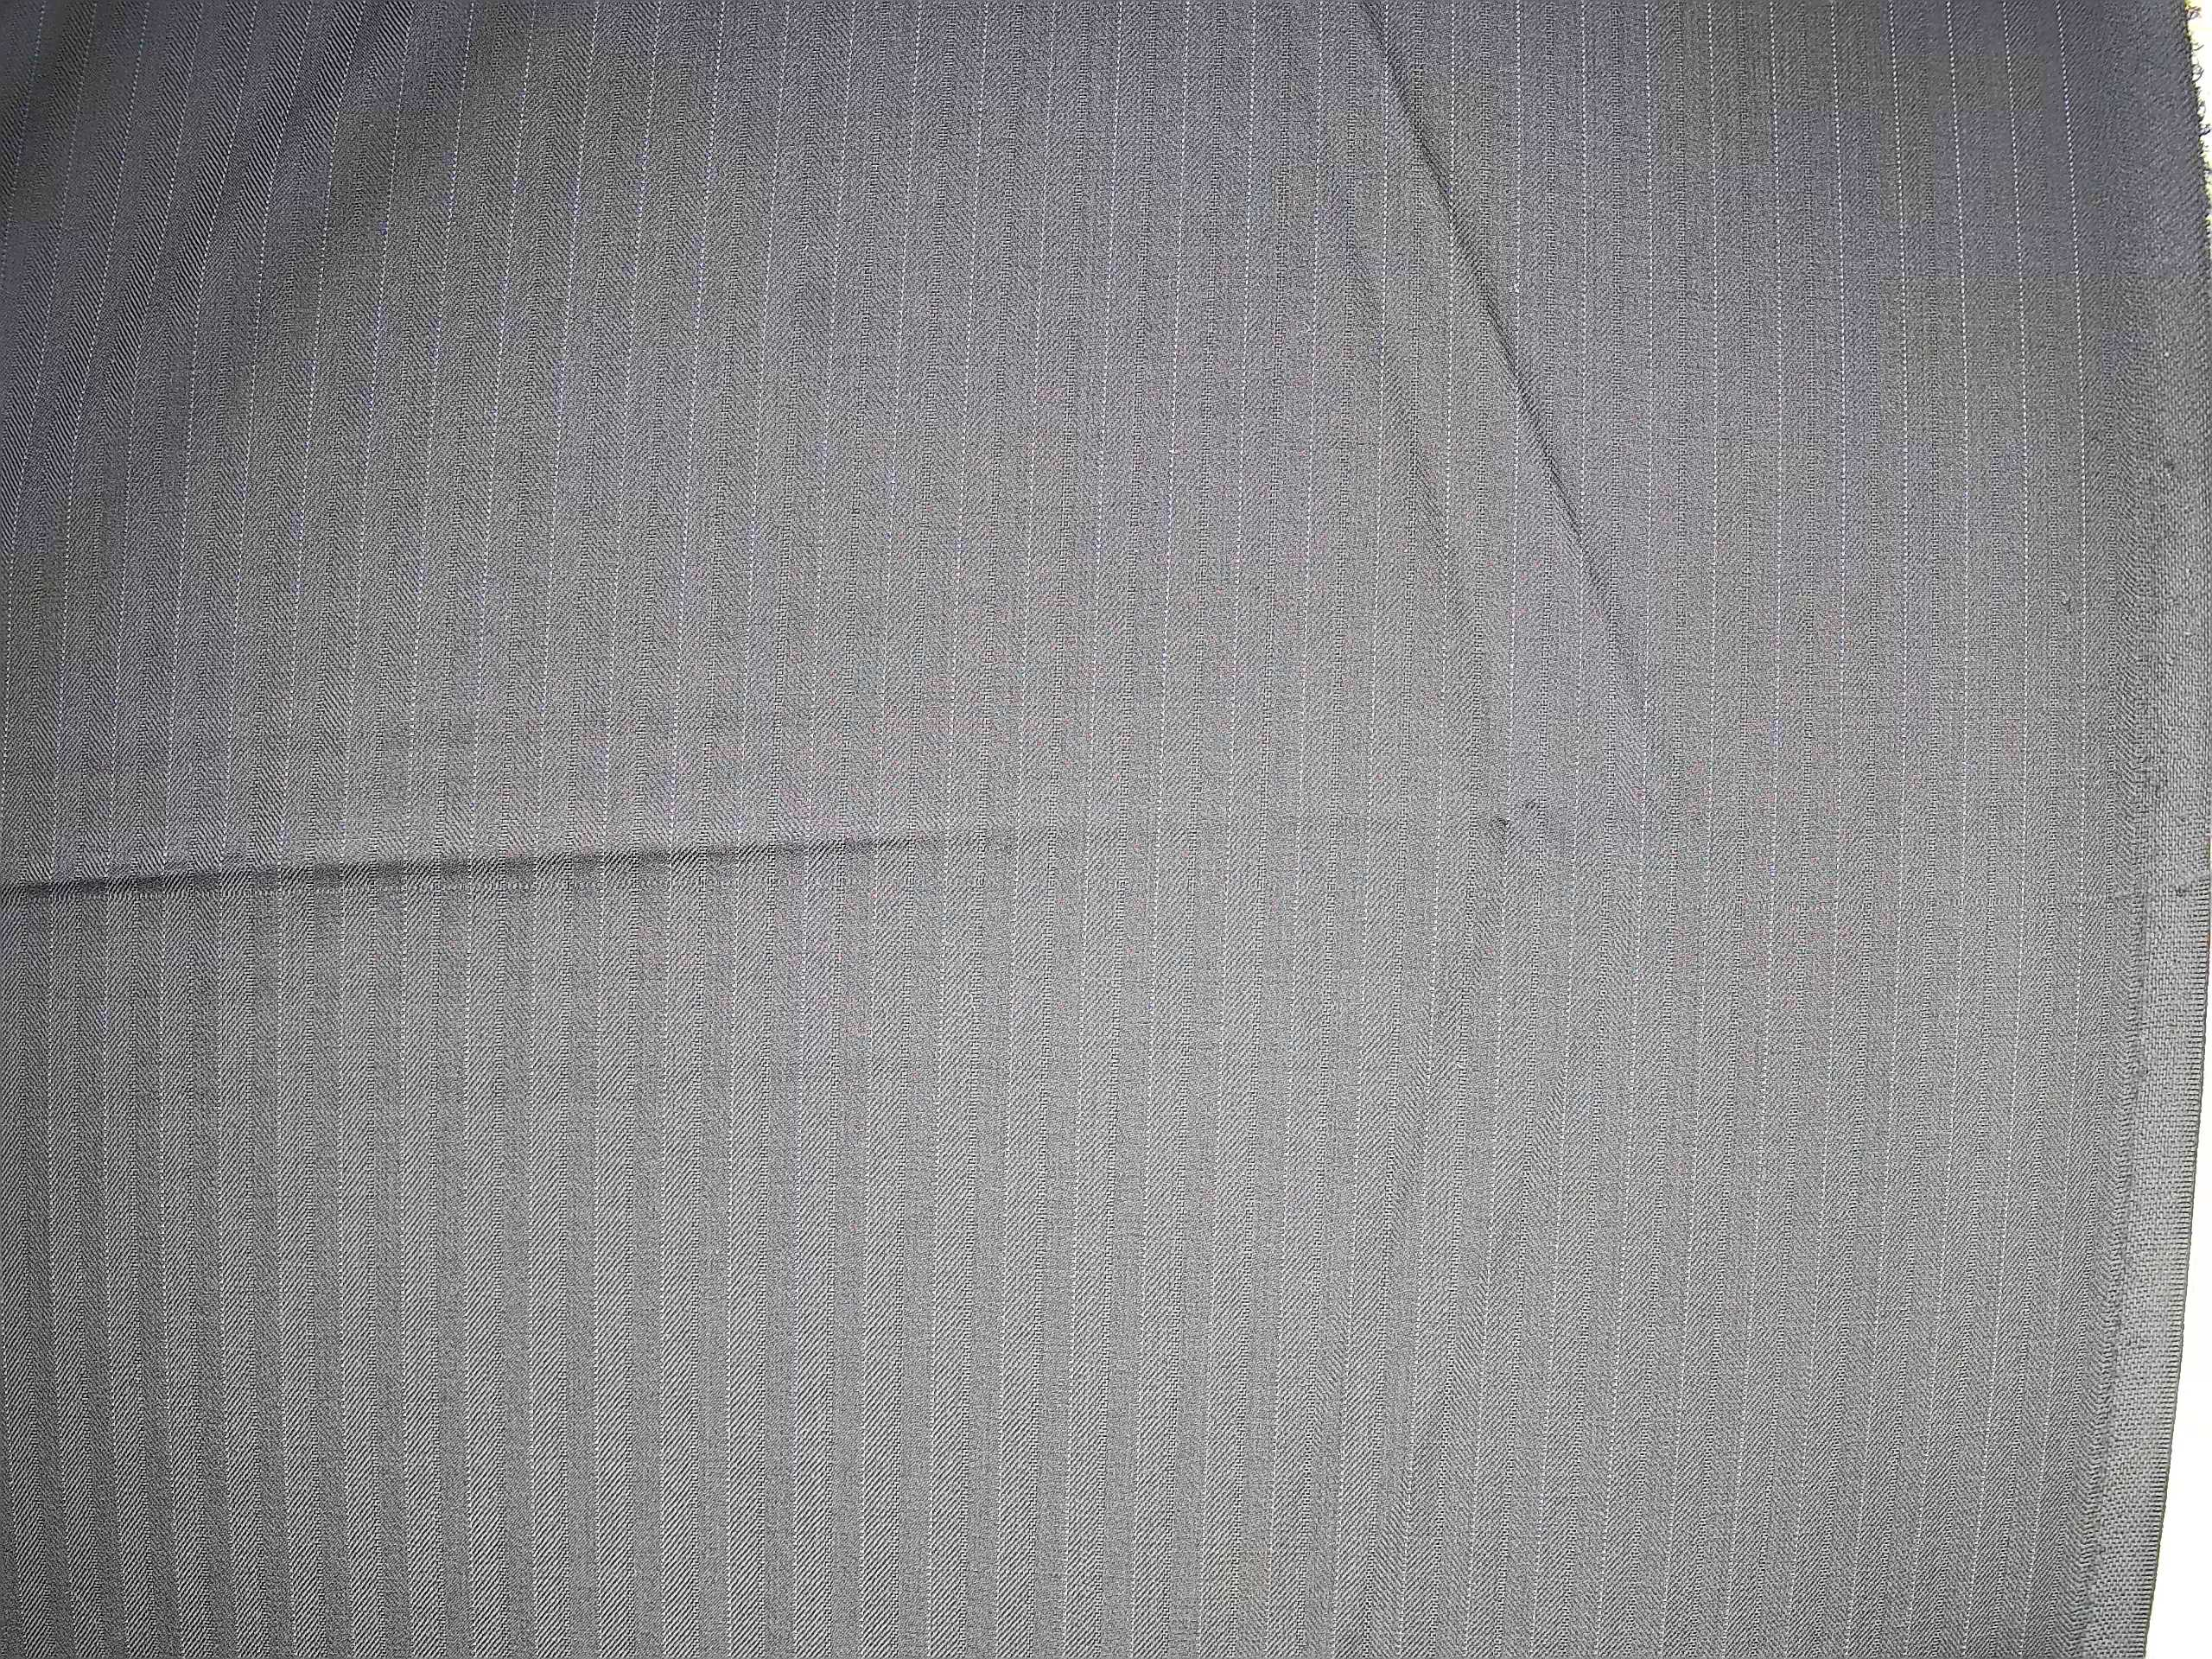others: (3, 861, 1148, 918)
